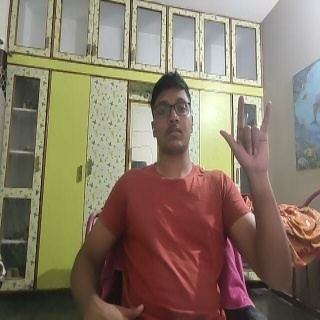Face: (148, 72, 195, 157)
I Love You: (219, 95, 278, 177)
